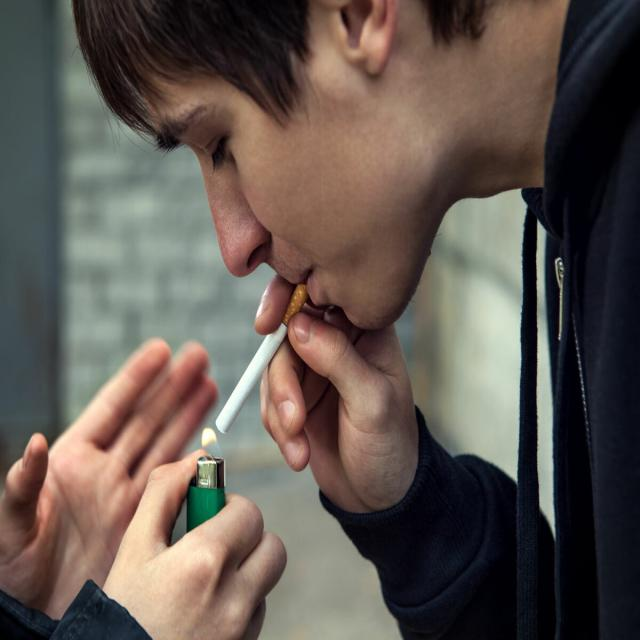smoke: (215, 279, 310, 440)
